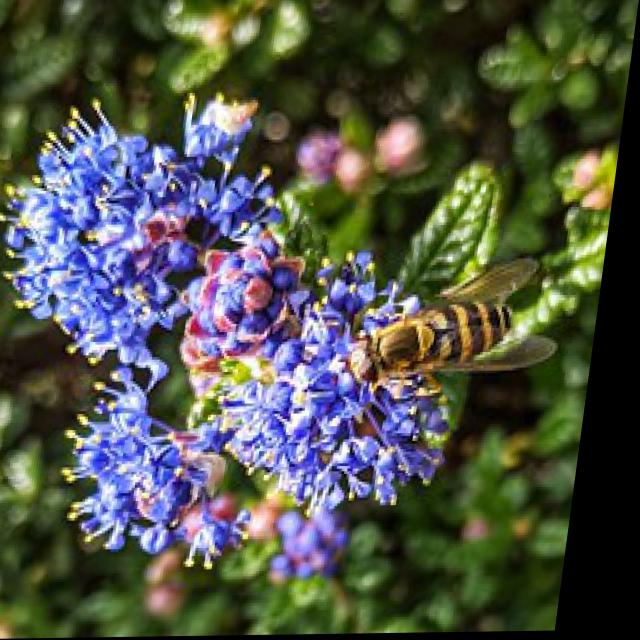Guepe: (333, 252, 593, 408)
